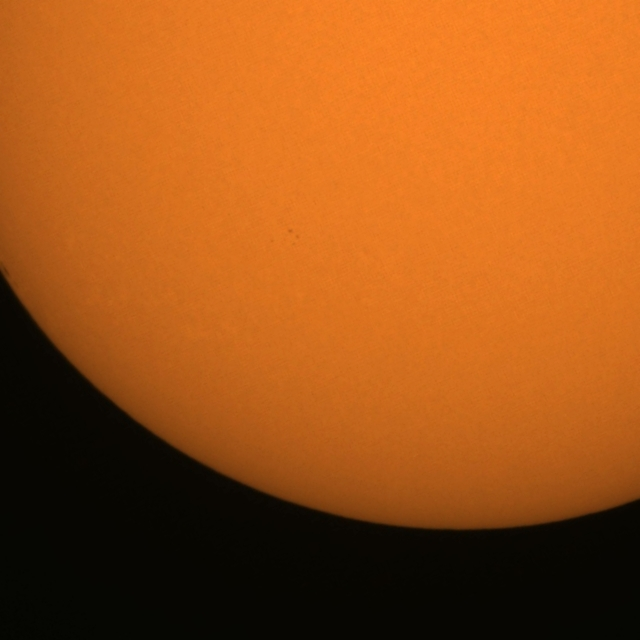sunspot: (286, 228, 301, 246), (2, 265, 11, 280)
